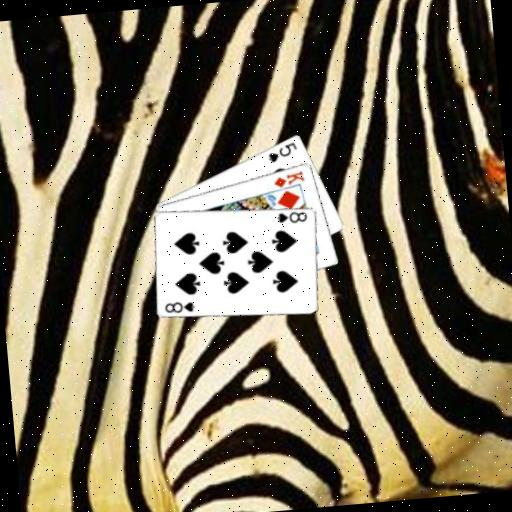5S: (265, 139, 300, 165)
8S: (274, 208, 309, 226), (162, 298, 197, 316)
KD: (270, 167, 307, 190)
